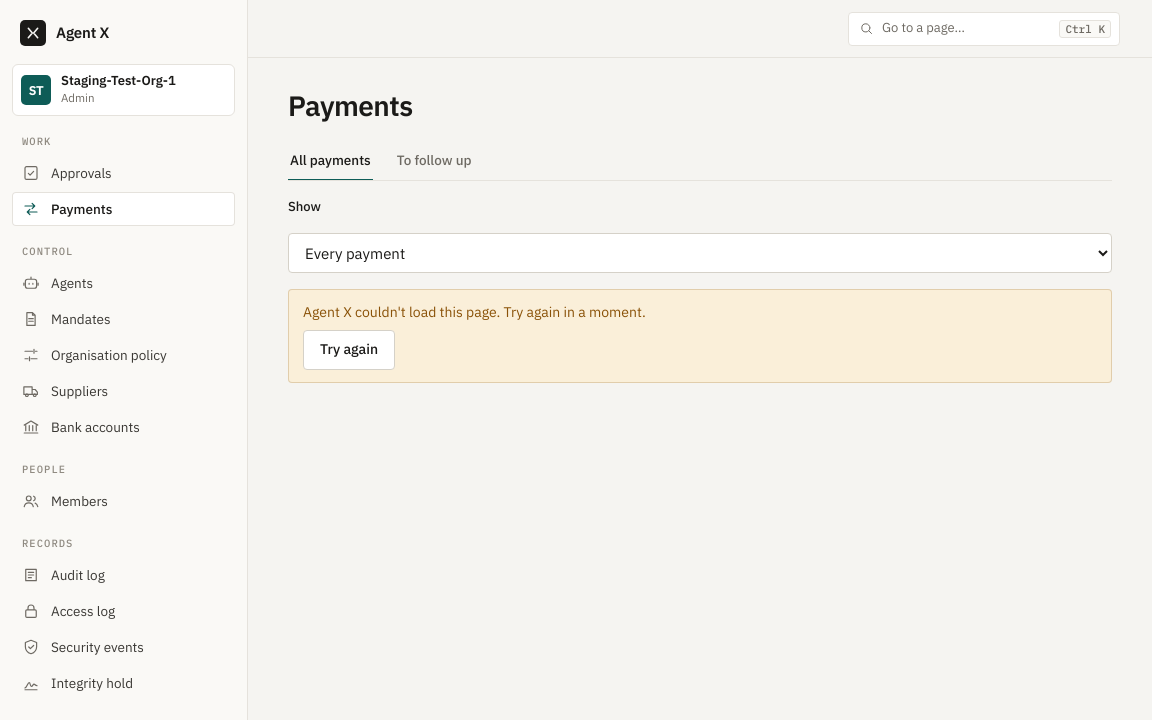
Scenario: the exception list (BR-17) › lists each payment to follow up, saying why it is there
Click the link "To follow up".
click(434, 160)  # box [397,151,472,169]
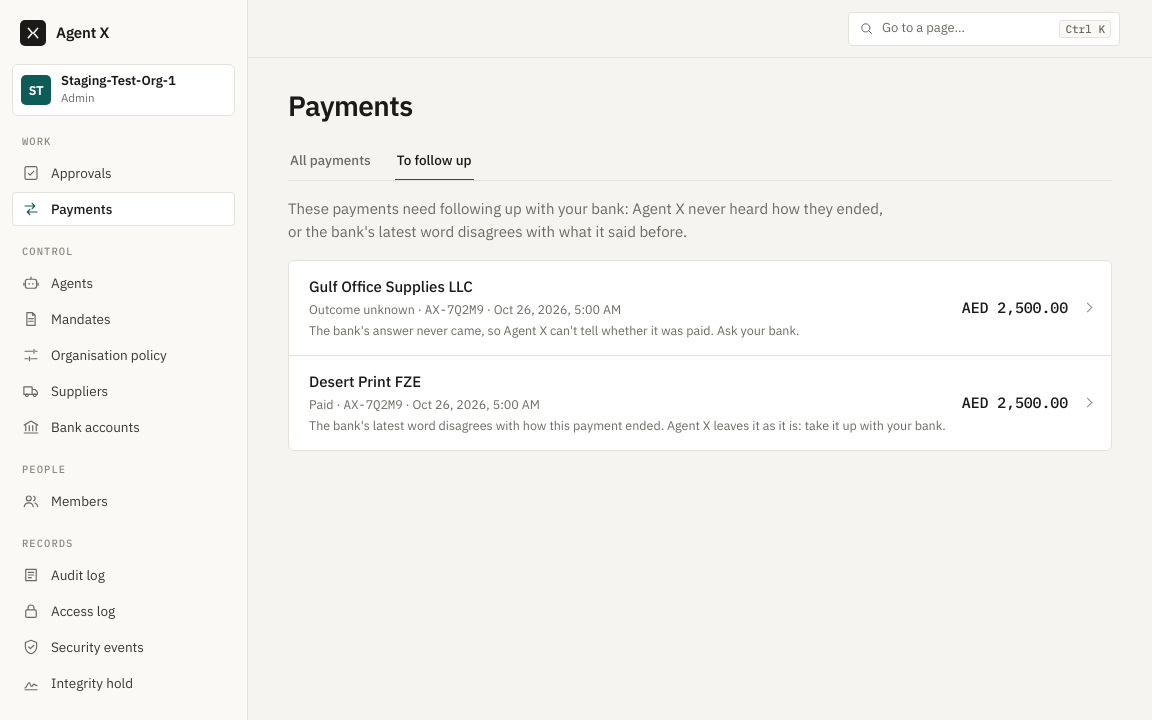
expect the text "The bank's answer never came" is shown: met, box [309,322,799,338]
expect the text "The bank's latest word disagrees" is shown: met, box [309,417,946,433]
expect the label labelled "Show" is gone: met
